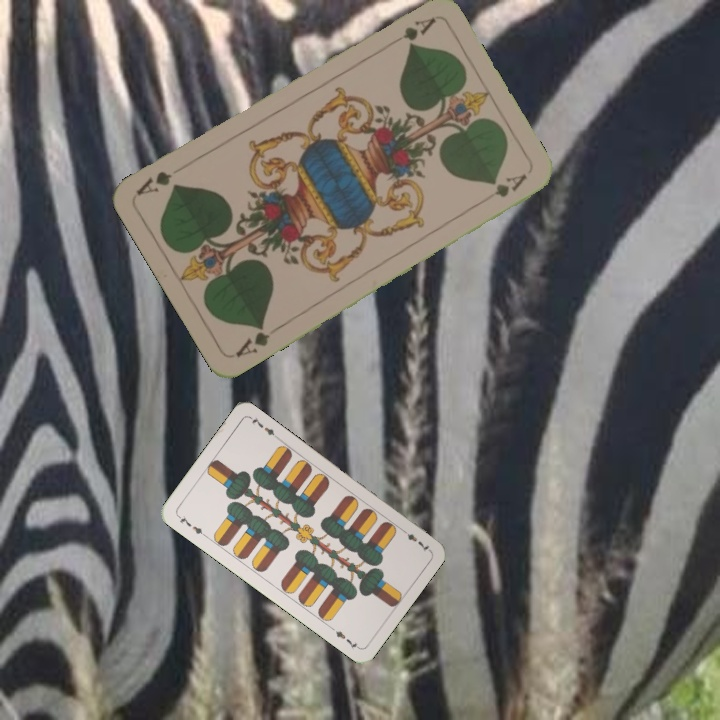E7: (397, 525, 433, 555), (173, 511, 209, 540)
GA: (231, 320, 283, 360), (398, 14, 438, 44)
